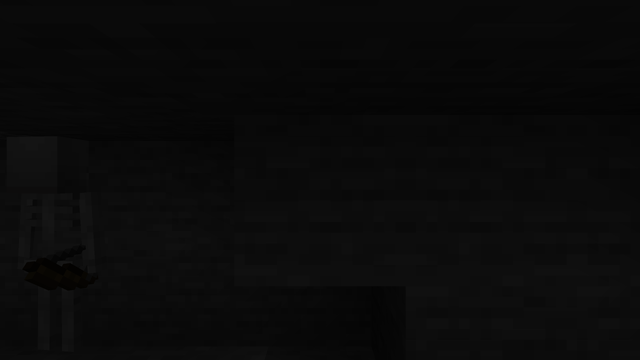squelettes: (10, 136, 93, 356)
